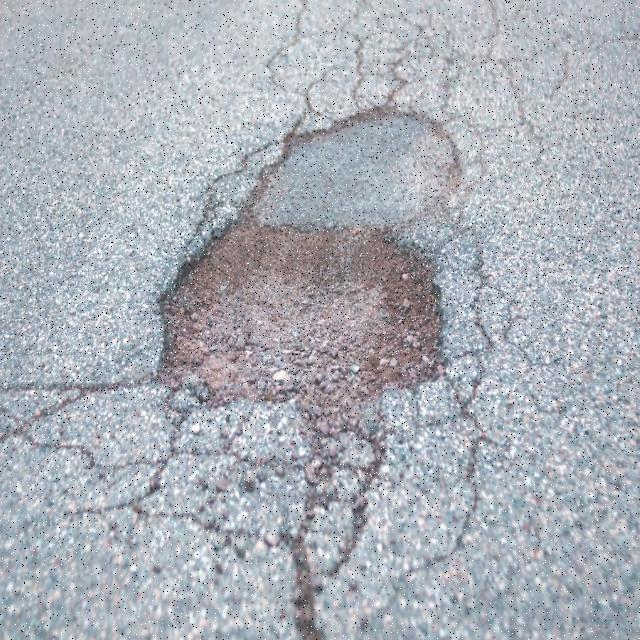Crack: (242, 53, 407, 221), (1, 375, 168, 515), (455, 233, 494, 546), (322, 429, 388, 580), (280, 485, 323, 640), (178, 183, 212, 253), (342, 32, 365, 99)
pothole: (158, 212, 447, 427)
